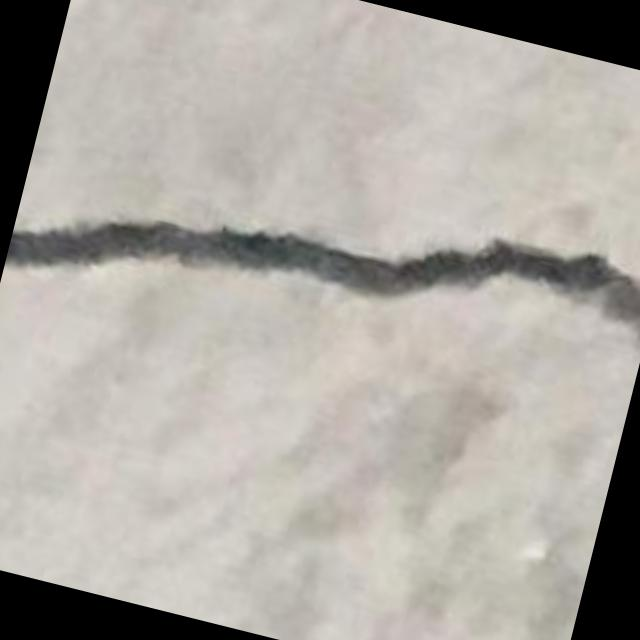crack: (5, 221, 639, 330)
